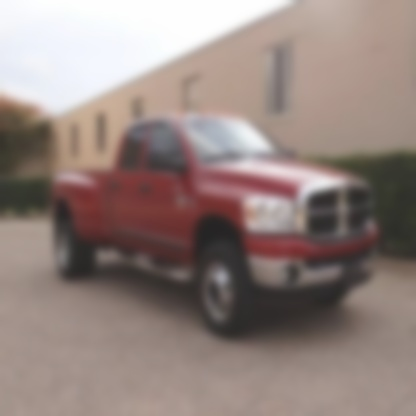Vehicle: (52, 109, 380, 339)
